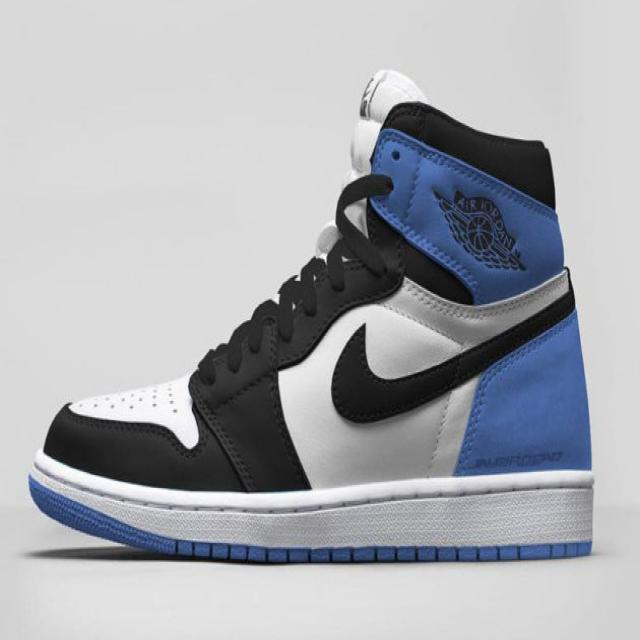shoe: (0, 68, 614, 560)
